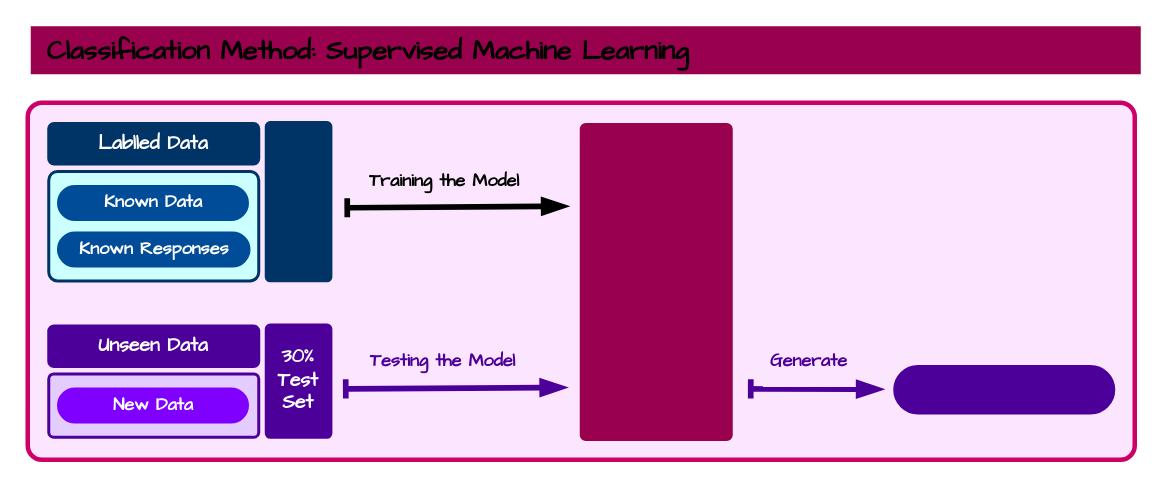
The diagram is 1167 pixels wide and 488 high, and some of its shapes have lost their labels. The shapes that lost their labels are listed below. From the top down, each one's centre as x and y in pixels, then its label:
pixel 298 201: 70% Test Set
pixel 655 281: Classifier (Supervised Machine Learning Model)
pixel 1003 389: Predicted Response
